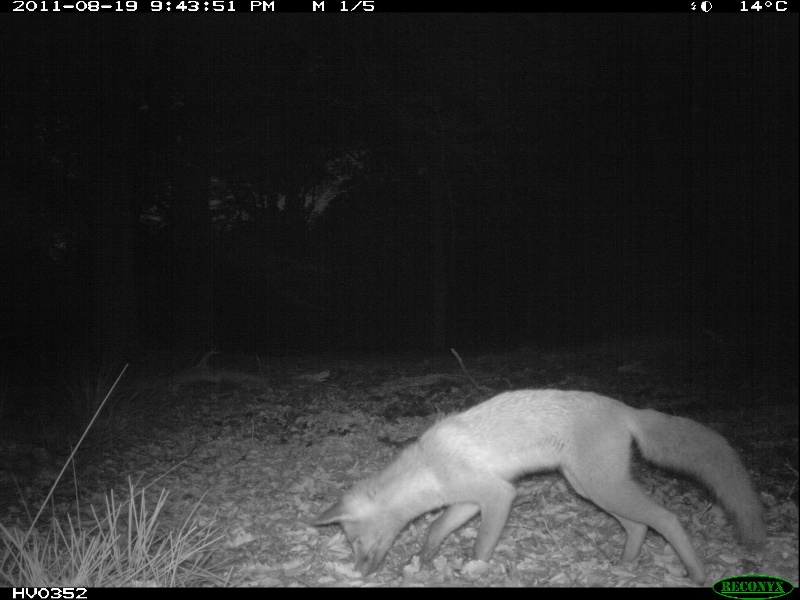fox: (303, 380, 772, 585)
